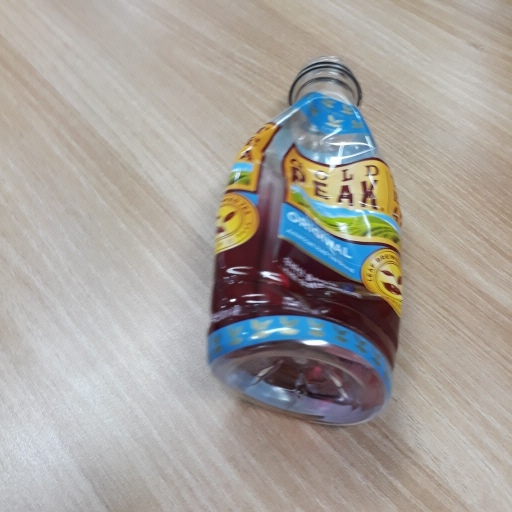Plastic_0: (210, 52, 404, 434)
